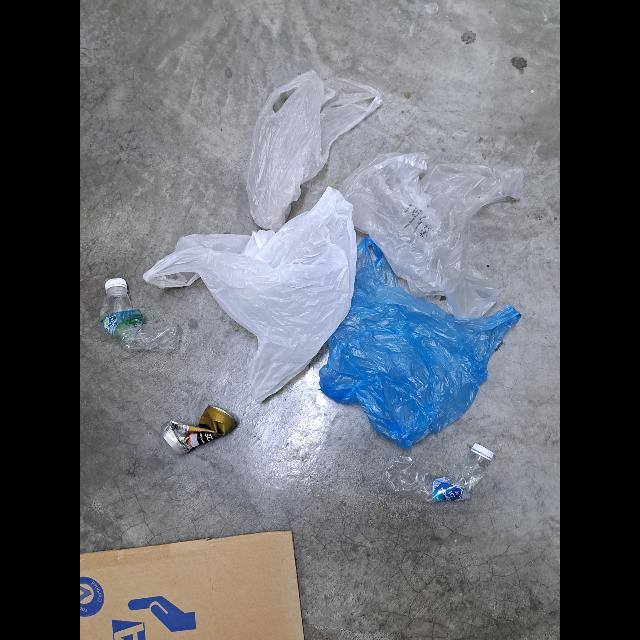garrafa plástica: (384, 452, 488, 502), (98, 288, 176, 354)
lata: (160, 404, 238, 456)
papelão: (80, 528, 308, 640)
sacola plástica: (144, 186, 358, 402), (318, 235, 522, 450), (342, 150, 520, 318), (246, 68, 384, 230)
tampa plástica: (472, 444, 494, 460), (105, 279, 127, 293)
